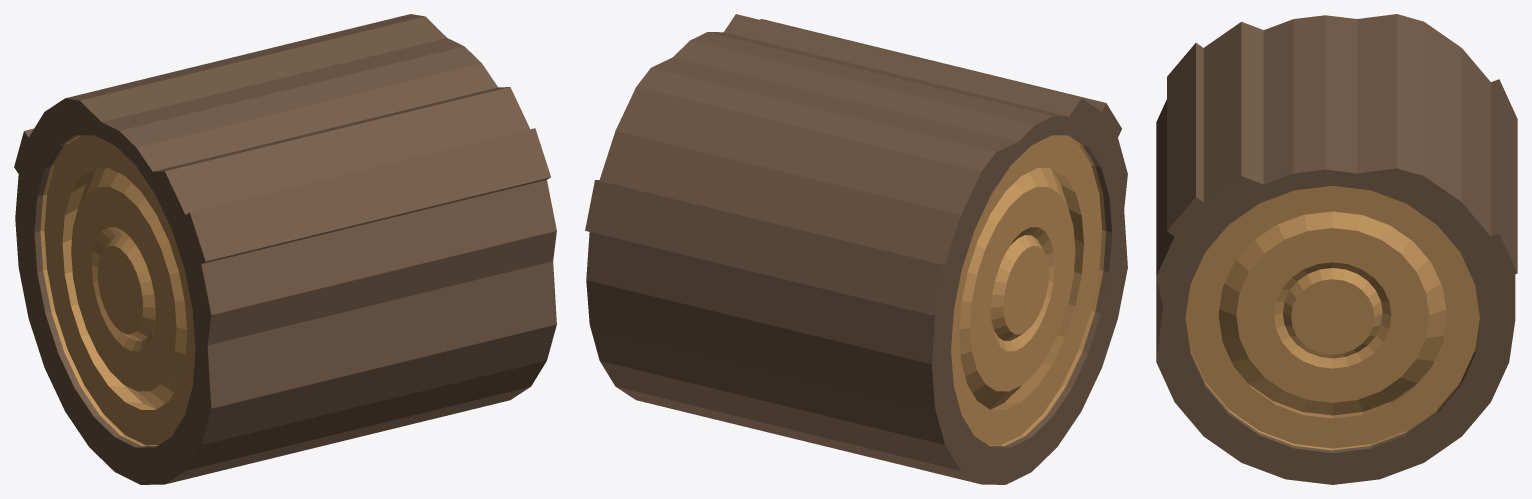
File: Log.fbx
The picture shows the model from 3 angles, left to right: view 1: azimuth 30°, elevation 25°; view 2: azimuth 150°, elevation 25°; view 3: azimuth 270°, elevation 25°; orthographic projection. The views are drawn at different scales.
Visible parts, largest first — view 1: Cylinder; view 2: Cylinder; view 3: Cylinder.
Boxes of the visible parts, left/top/right/bottom form: Cylinder: left=14, top=14, right=556, bottom=484; Cylinder: left=585, top=14, right=1127, bottom=484; Cylinder: left=1156, top=14, right=1517, bottom=484.
Bounding box in the file's own units: 100 × 95.62 × 98.9.
